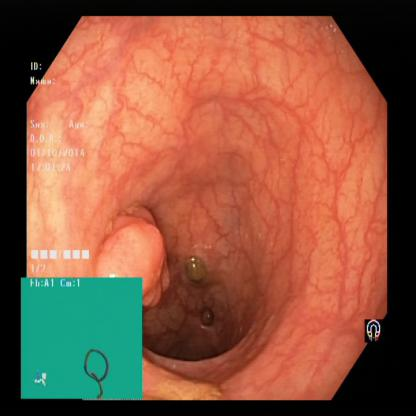Labels: (21, 275, 144, 399), (27, 53, 92, 278), (356, 301, 394, 360)
Polyps: (93, 202, 169, 305)
